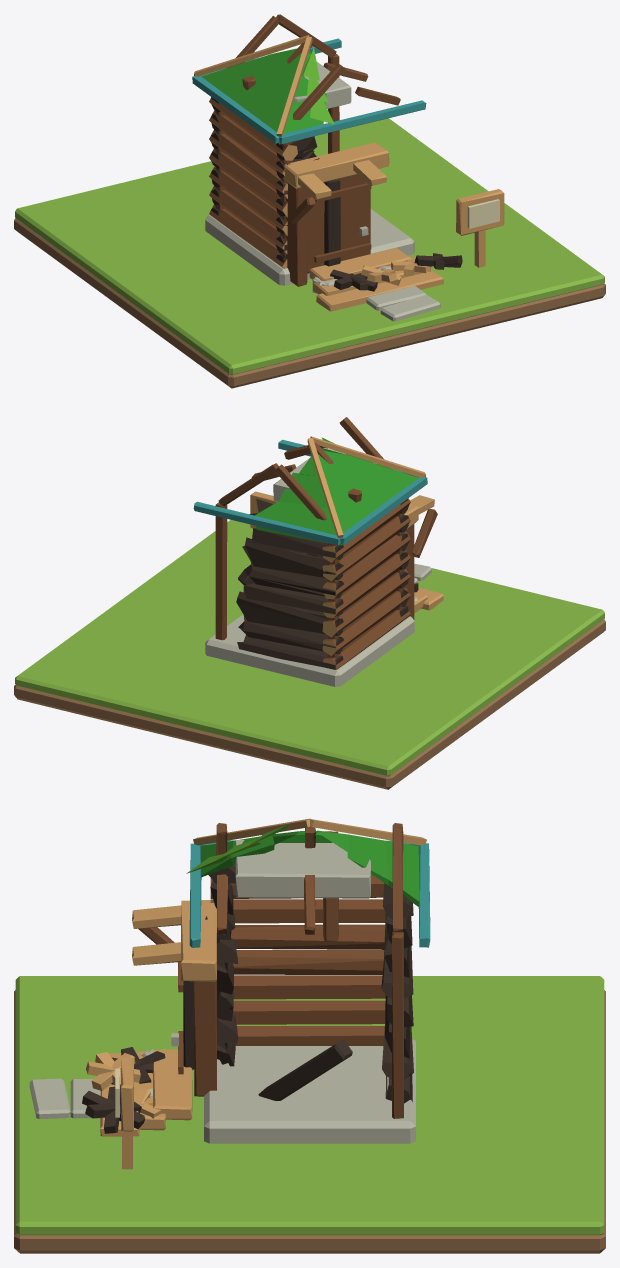
File: town_hall_l02_damaged_LOD1.glb
3 views of the same model, one above another, from view 1: azimuth 30°, elevation 25°; view 2: azimuth 150°, elevation 25°; view 3: azimuth 270°, elevation 25° (orthographic). The views are drawn at different scales.
Parts seen in each view (by area): view 1: town_hall_l02_damaged_grass_tile.001, town_hall_l02_damaged_foundation.001, town_hall_l02_damaged_earth_tile.001, town_hall_l02_damaged_path_stone.005, town_hall_l02_damaged_path_stone.004; view 2: town_hall_l02_damaged_grass_tile.001, town_hall_l02_damaged_foundation.001, town_hall_l02_damaged_earth_tile.001; view 3: town_hall_l02_damaged_grass_tile.001, town_hall_l02_damaged_foundation.001, town_hall_l02_damaged_earth_tile.001, town_hall_l02_damaged_path_stone.005, town_hall_l02_damaged_path_stone.004.
Boxes of the visible parts, x1,y1,x2,y2 form: town_hall_l02_damaged_grass_tile.001: (15,118,604,374); town_hall_l02_damaged_foundation.001: (192,14,504,311); town_hall_l02_damaged_earth_tile.001: (14,218,605,388); town_hall_l02_damaged_path_stone.005: (380,294,440,321); town_hall_l02_damaged_path_stone.004: (366,286,426,310); town_hall_l02_damaged_grass_tile.001: (15,520,604,776); town_hall_l02_damaged_foundation.001: (193,417,443,686); town_hall_l02_damaged_earth_tile.001: (14,619,605,789); town_hall_l02_damaged_grass_tile.001: (15,976,604,1235); town_hall_l02_damaged_foundation.001: (82,818,430,1169); town_hall_l02_damaged_earth_tile.001: (14,990,605,1253); town_hall_l02_damaged_path_stone.005: (29,1078,70,1119); town_hall_l02_damaged_path_stone.004: (70,1079,100,1118).
Bounding box in the file's own units: 3.6 × 2.08 × 3.6.
